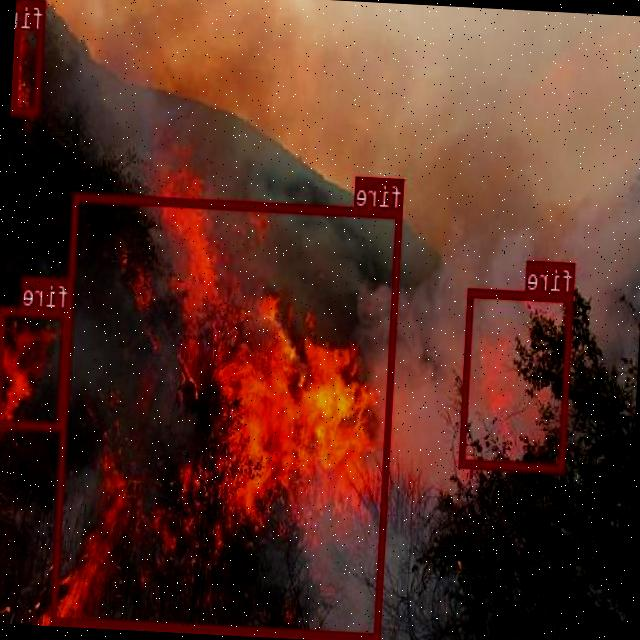fire: (53, 191, 404, 640), (461, 288, 574, 472), (0, 305, 70, 428), (12, 0, 46, 114)
